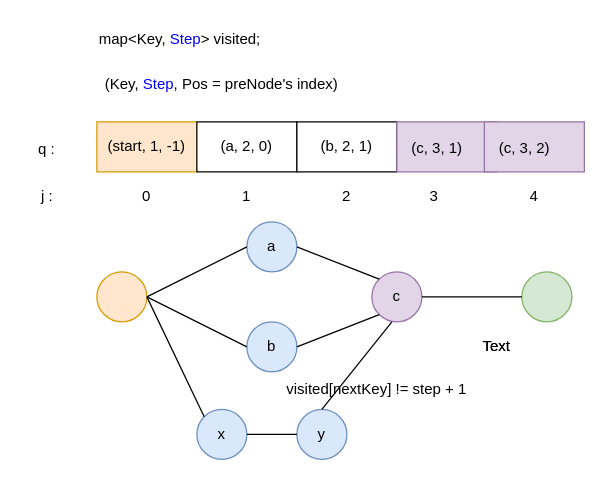
Some shapes in this 606 by 481 pixel diagram are drawn without their labels. Here are the shapes that lost their labels. From the top down, the centre of each, then its label:
the point at 121,296: start
the point at 546,296: end
